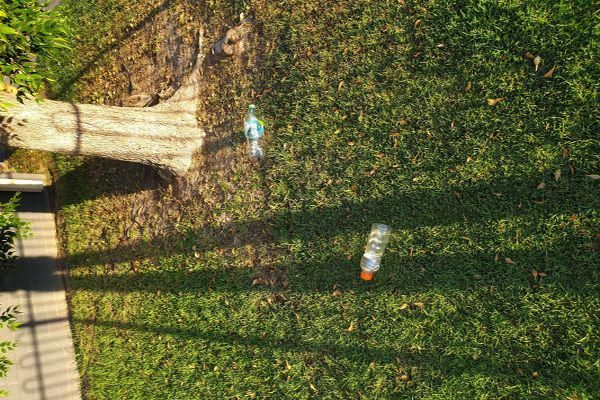Plastic Bottle: (360, 223, 392, 280), (242, 104, 268, 161)
